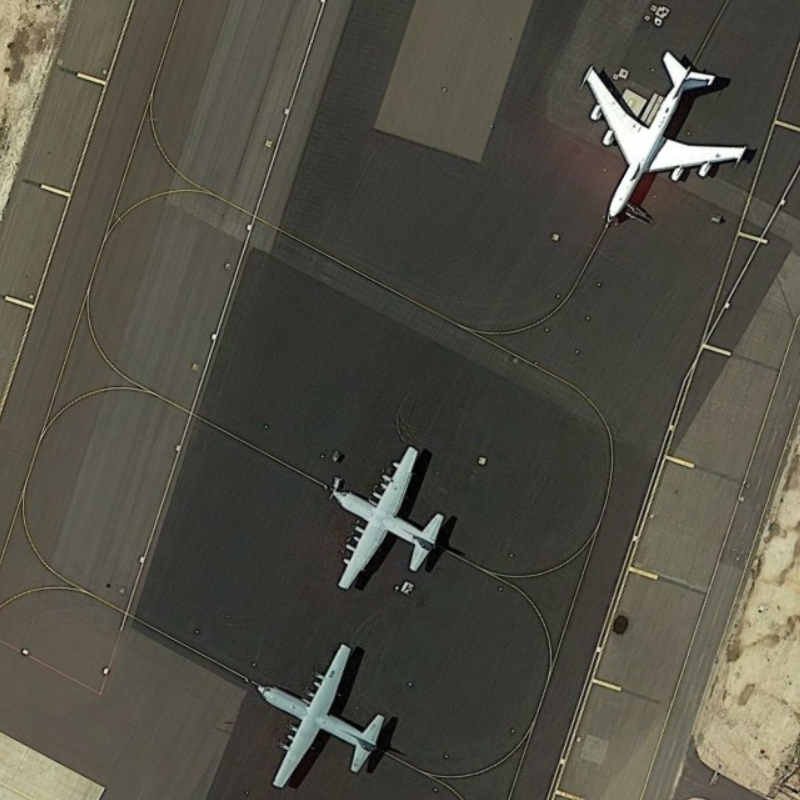A11: (575, 47, 758, 229)
A2: (250, 639, 397, 793), (318, 440, 453, 591)
